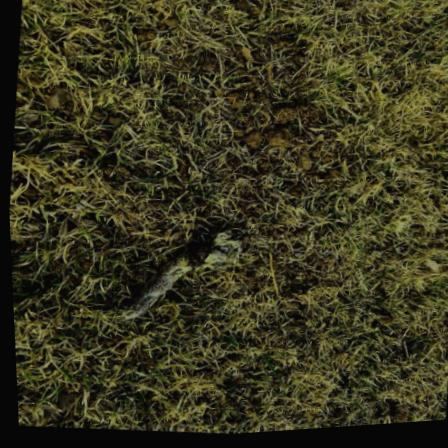dog-poop: (107, 204, 250, 340)
